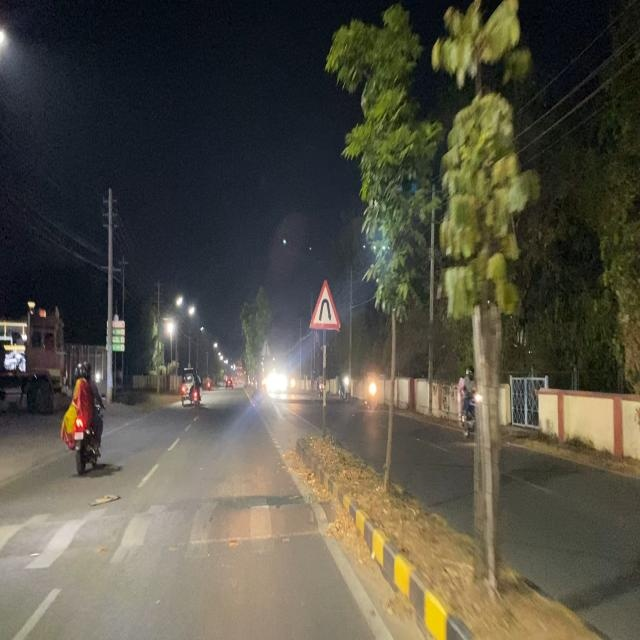bien_nguy_hiem: (308, 278, 341, 332)
